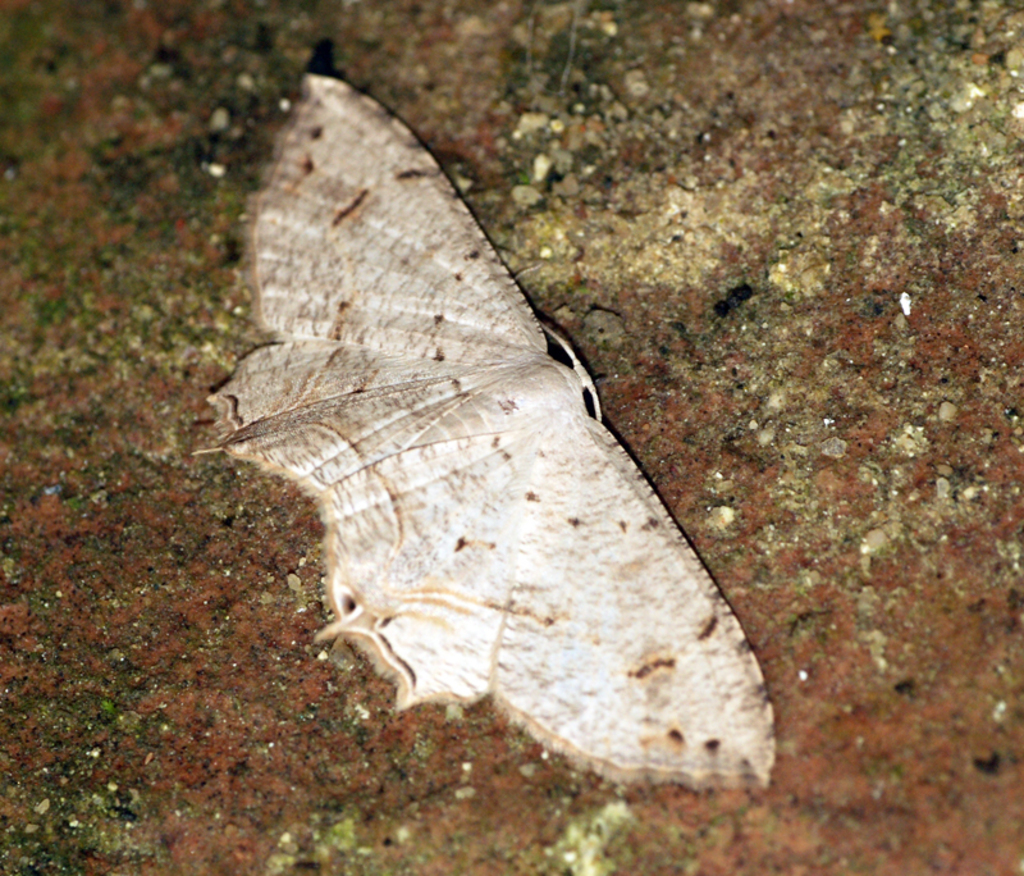Butterfly: (202, 45, 807, 826)
